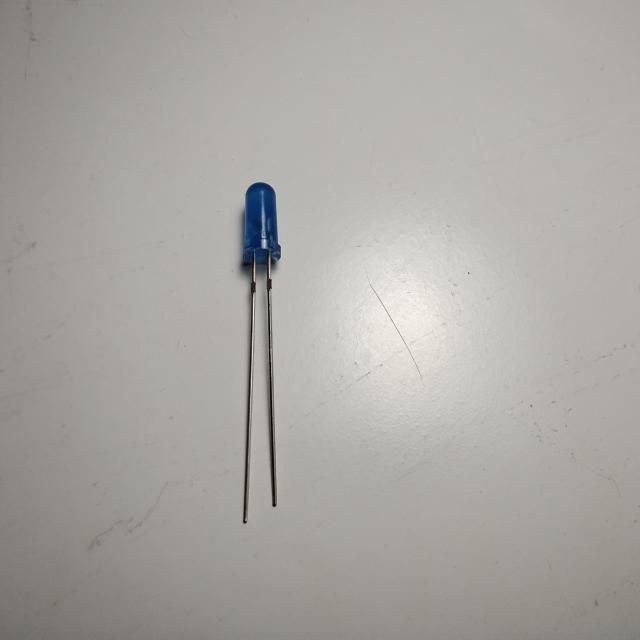blue_led: (242, 181, 282, 265)
